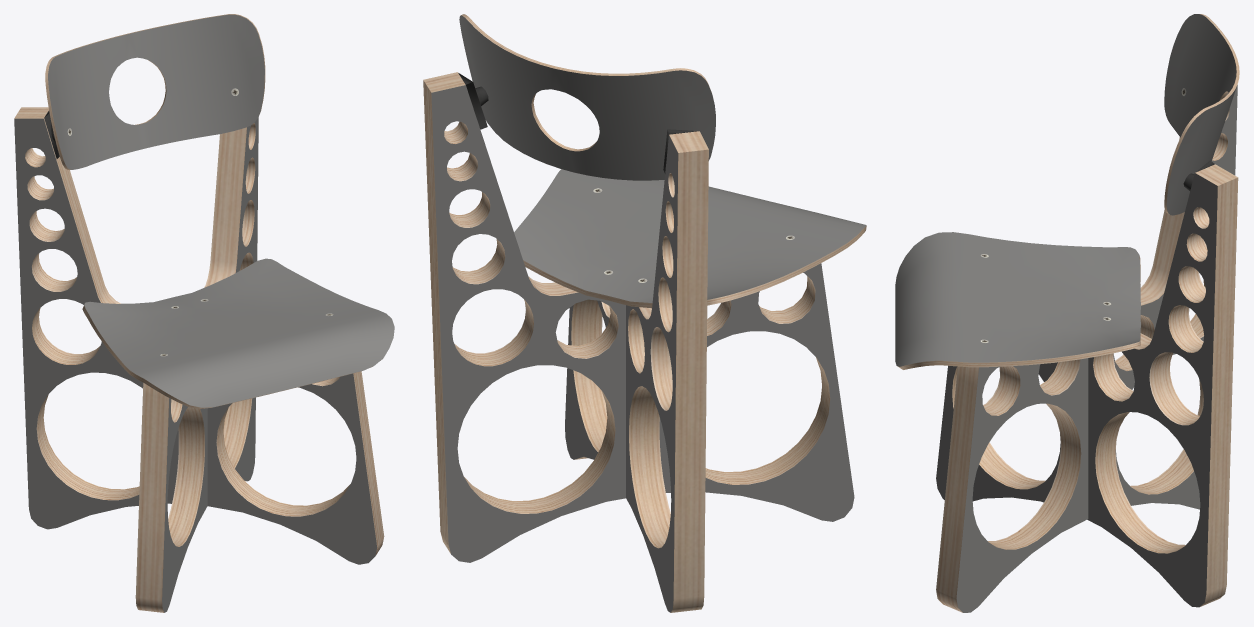
Rendered from 11_Shop Chair_Gray.glb.
3 renders of one model, left to right at view 1: azimuth 30°, elevation 25°; view 2: azimuth 150°, elevation 25°; view 3: azimuth 270°, elevation 25°, orthographic. The views are drawn at different scales.
Parts seen in each view (by area): view 1: ShopChair_Gray_baseMesh; view 2: ShopChair_Gray_baseMesh; view 3: ShopChair_Gray_baseMesh.
Part boxes in pixels (x1,y1,x2,y2): ShopChair_Gray_baseMesh: (14, 14, 394, 612); ShopChair_Gray_baseMesh: (423, 14, 866, 612); ShopChair_Gray_baseMesh: (895, 14, 1239, 612).
Size of the model in its own units: 0.4772 by 0.8462 by 0.5365.
Materials: 2 (2 with a texture image).
